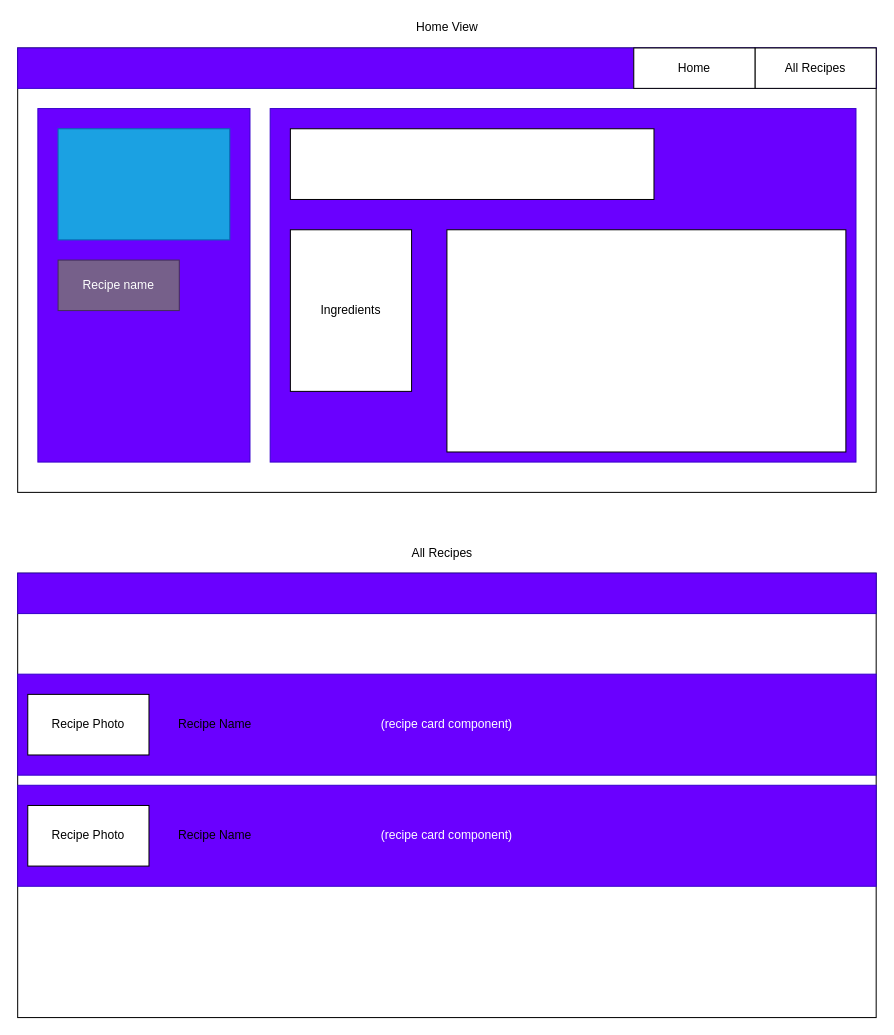
Image size: 894x1035. Some labels were removed from this diagram. The shapes that lost their labels are listed below. From the top down, each one's box as (x1, y1, x2, y2) in pixels, then its label:
(289, 128, 654, 199): Recipe description
(57, 128, 230, 240): Image
(446, 229, 846, 452): Recipe Steps
(17, 572, 876, 614): navbar
